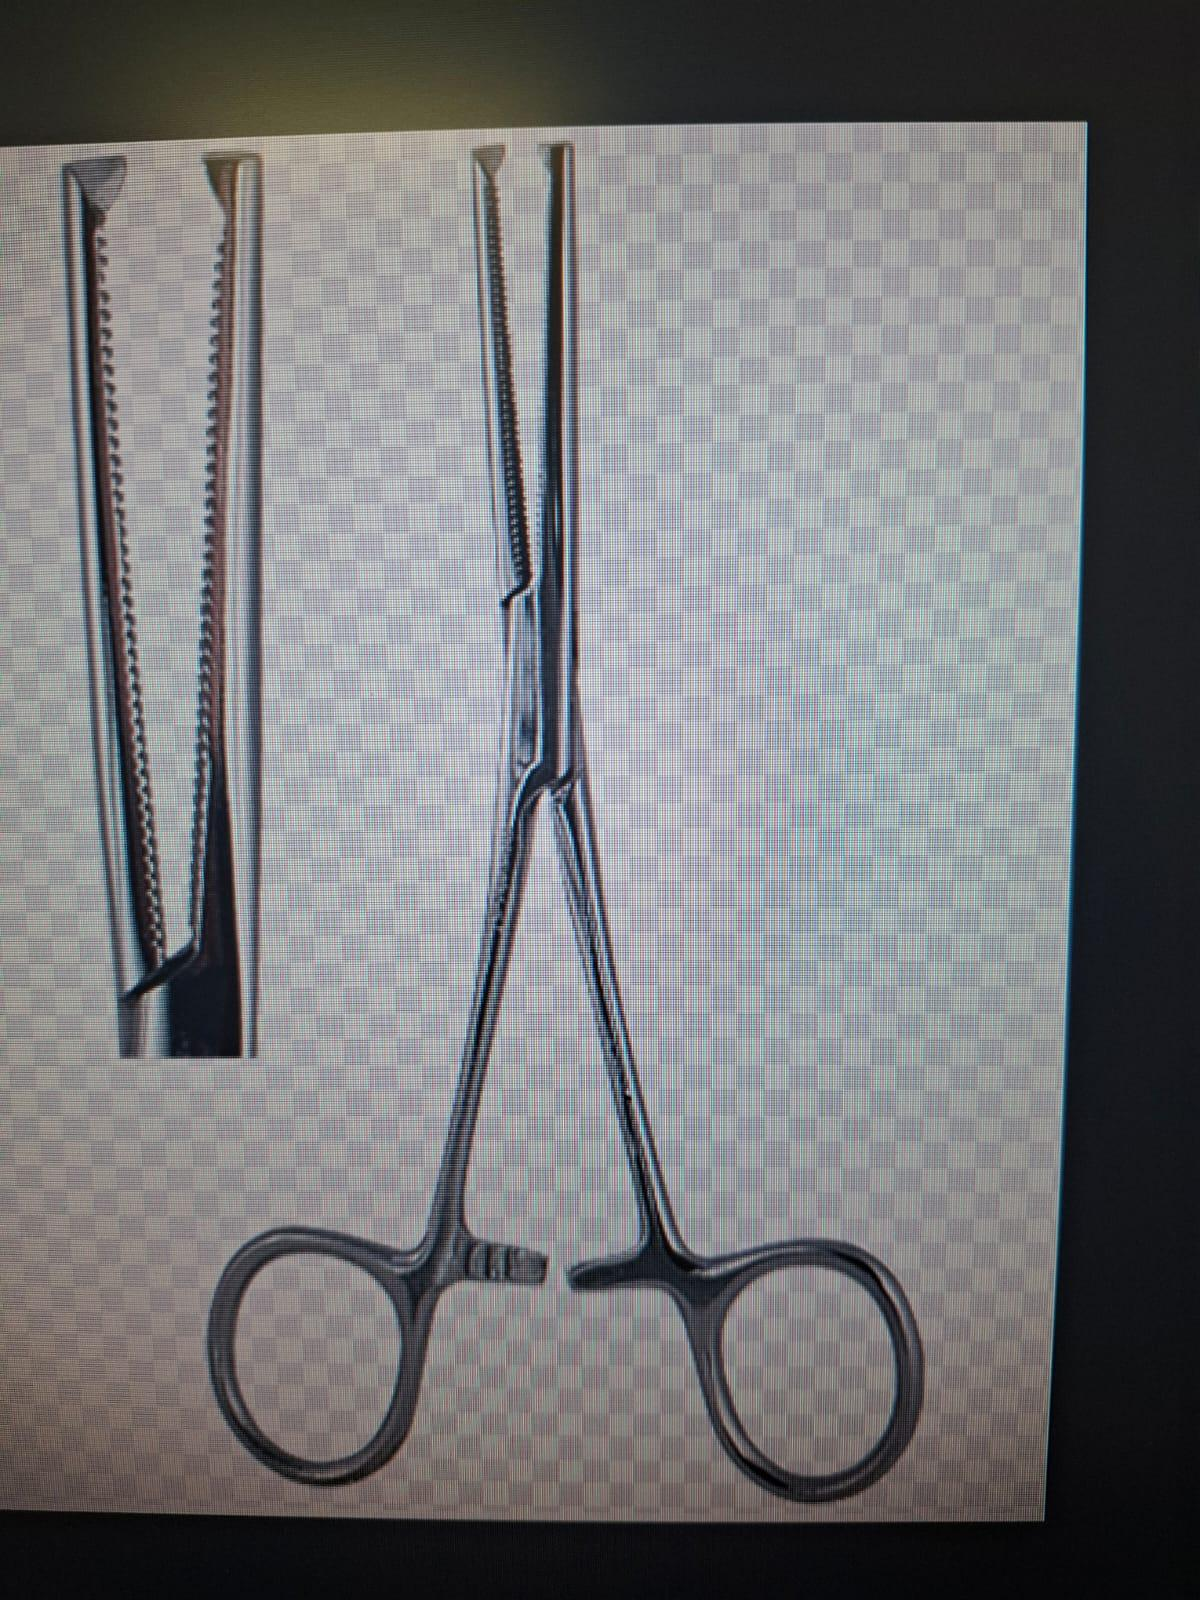Kocher Forceps: (188, 140, 938, 1508)
